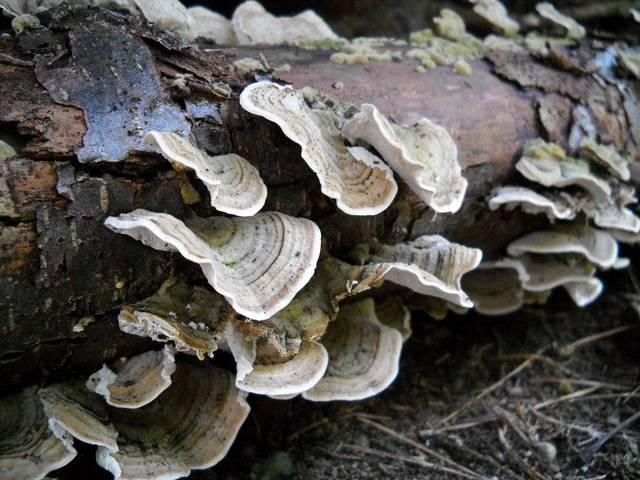Non-edible Mushroom: (0, 245, 558, 472), (68, 0, 640, 67), (491, 92, 640, 316), (102, 205, 322, 322), (238, 78, 399, 217), (141, 128, 268, 217)
